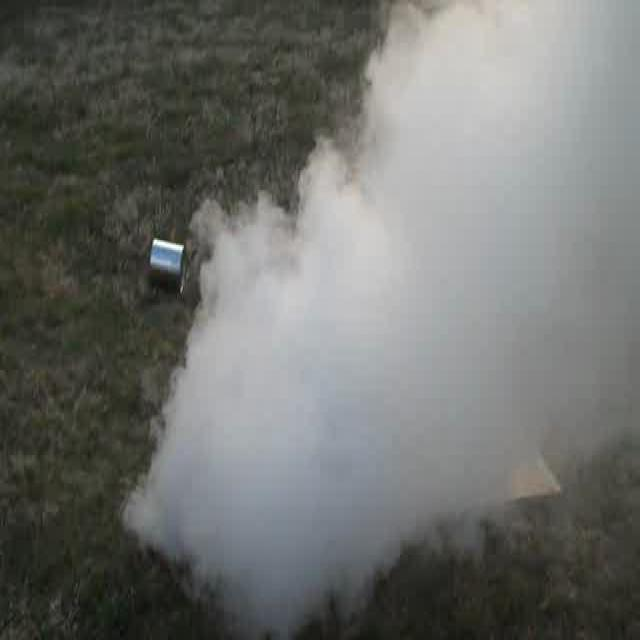Smoke: (174, 8, 636, 605)
